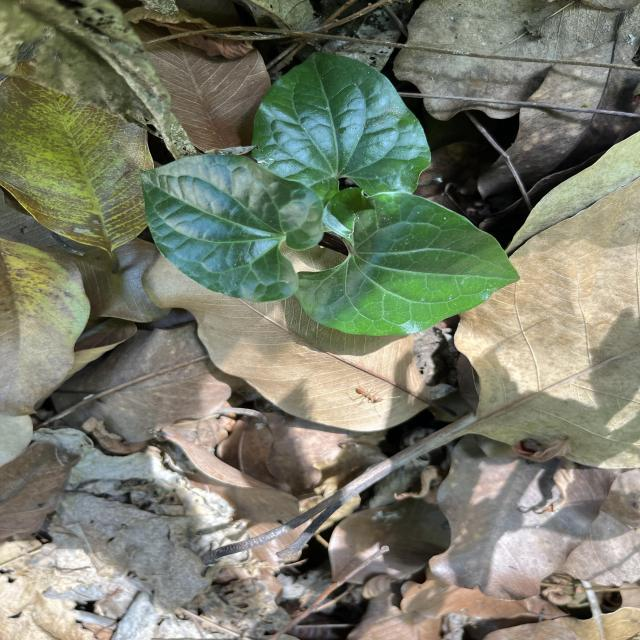Piper longum: (288, 184, 523, 338), (137, 153, 326, 304), (250, 50, 433, 196)
